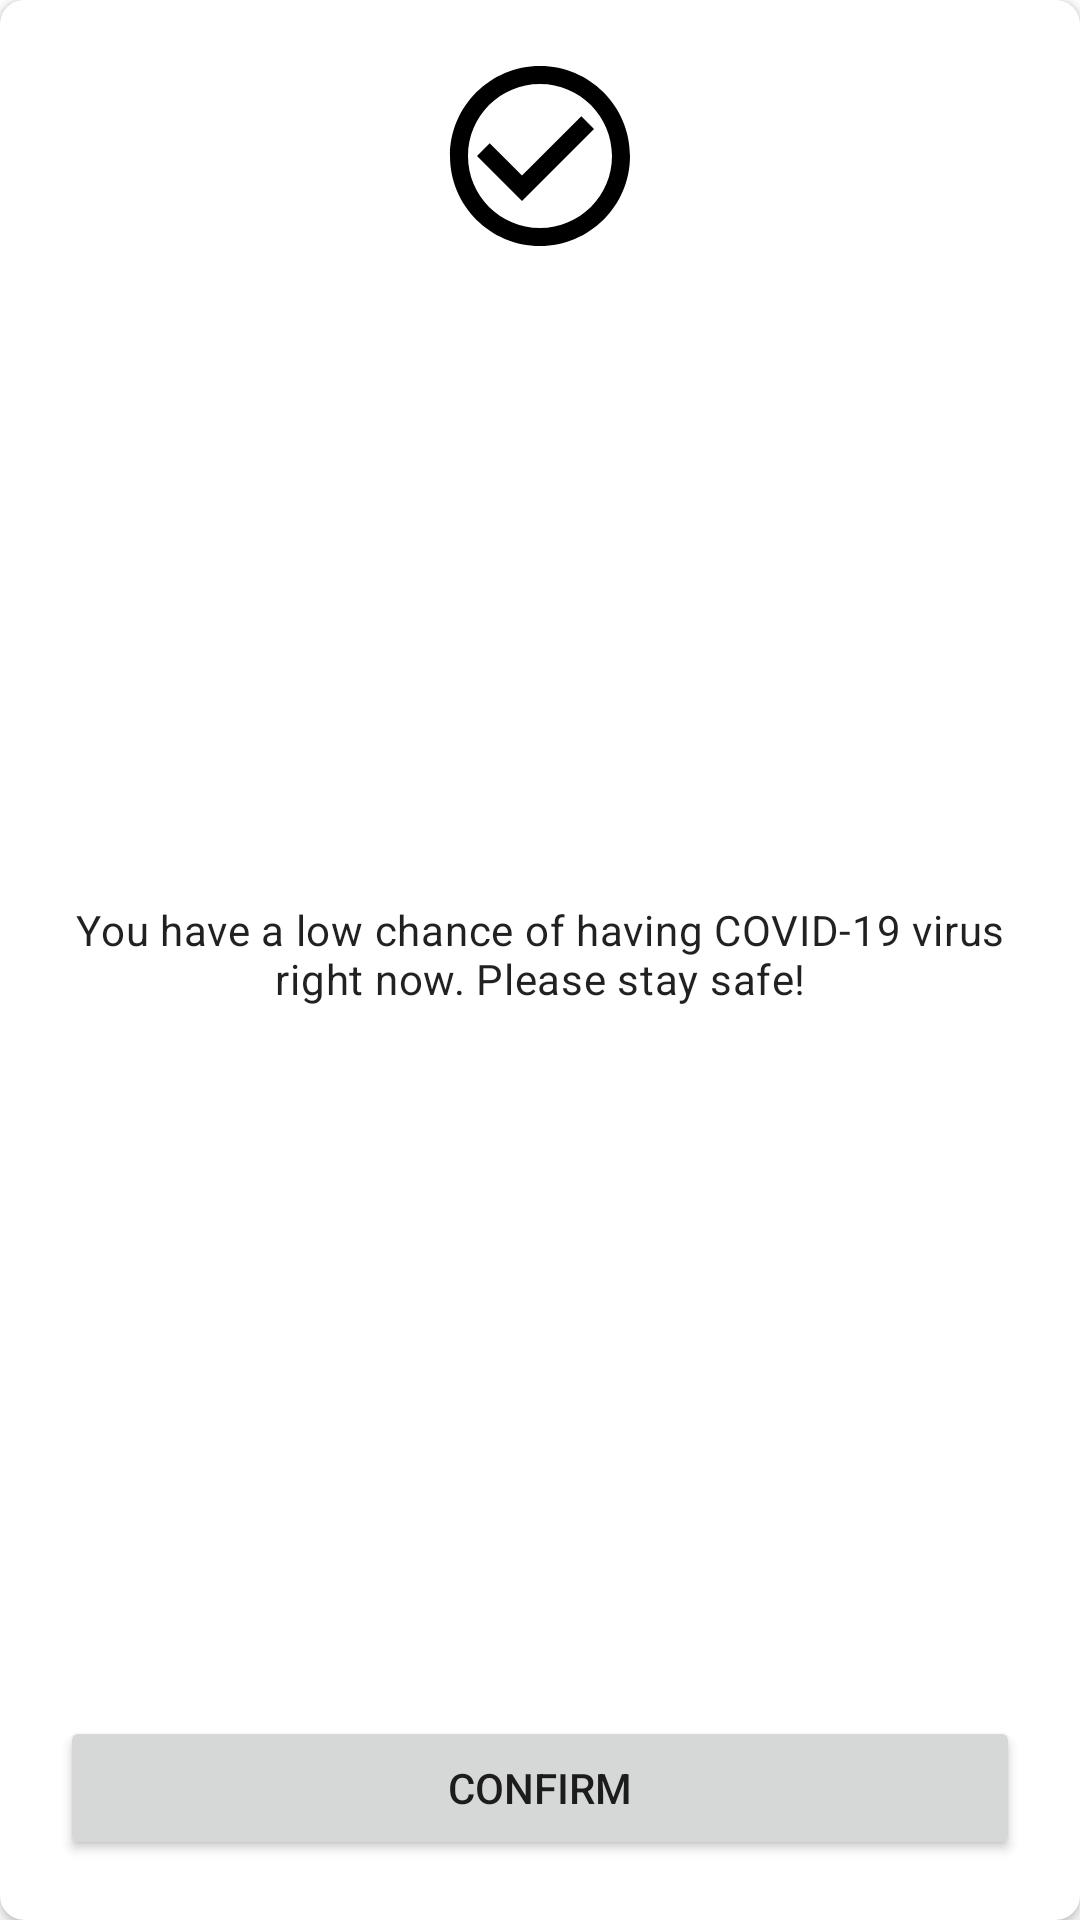

Point at icon controls on the screen. Image size 1080w x 1920h, points as (x,y).
check: (539,156)
